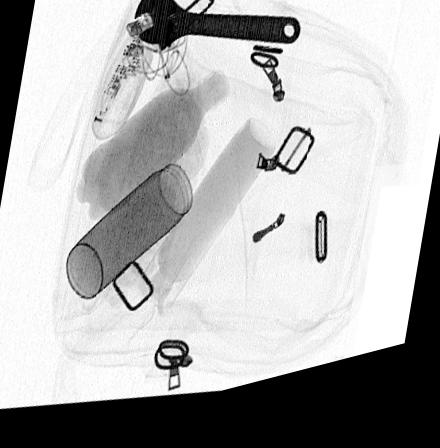Wrench: (132, 0, 302, 60)
